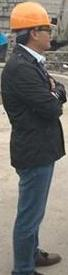boots: (11, 270, 46, 275), (0, 218, 11, 231)
gloves: (54, 82, 67, 103)
hard-hat: (0, 0, 34, 24)
